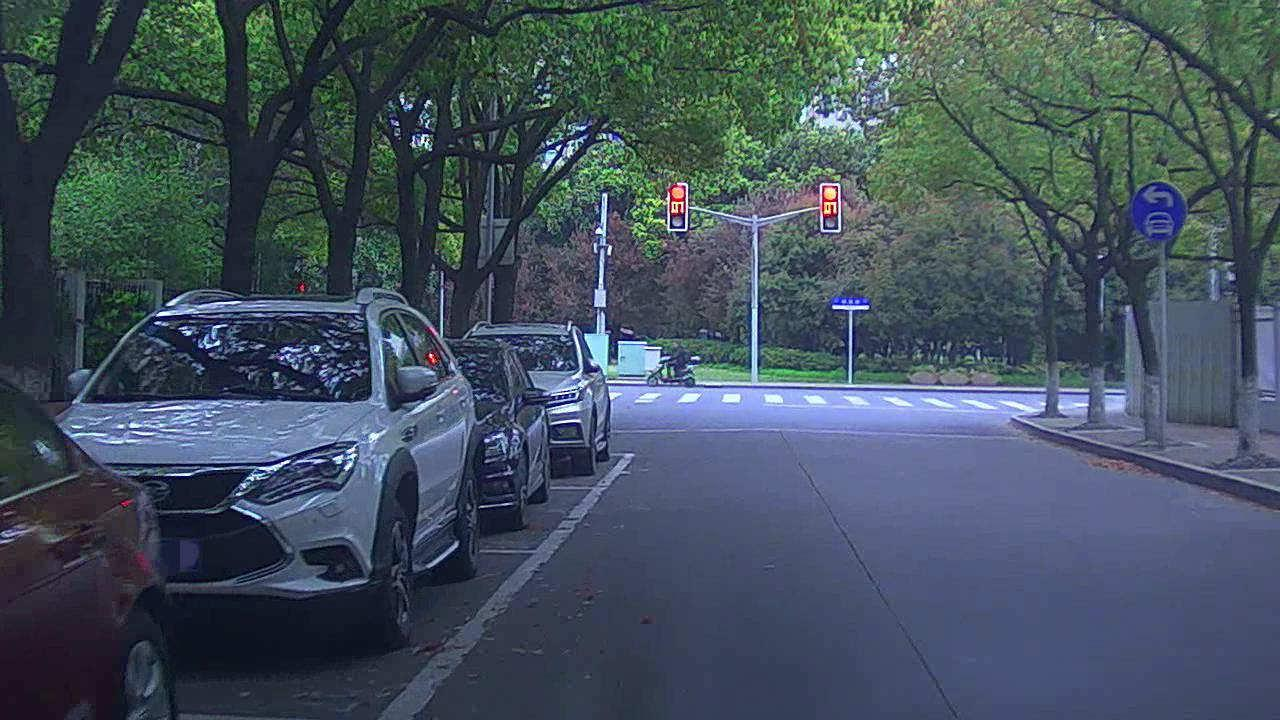traffic_light: (820, 180, 845, 237), (669, 184, 688, 237)
